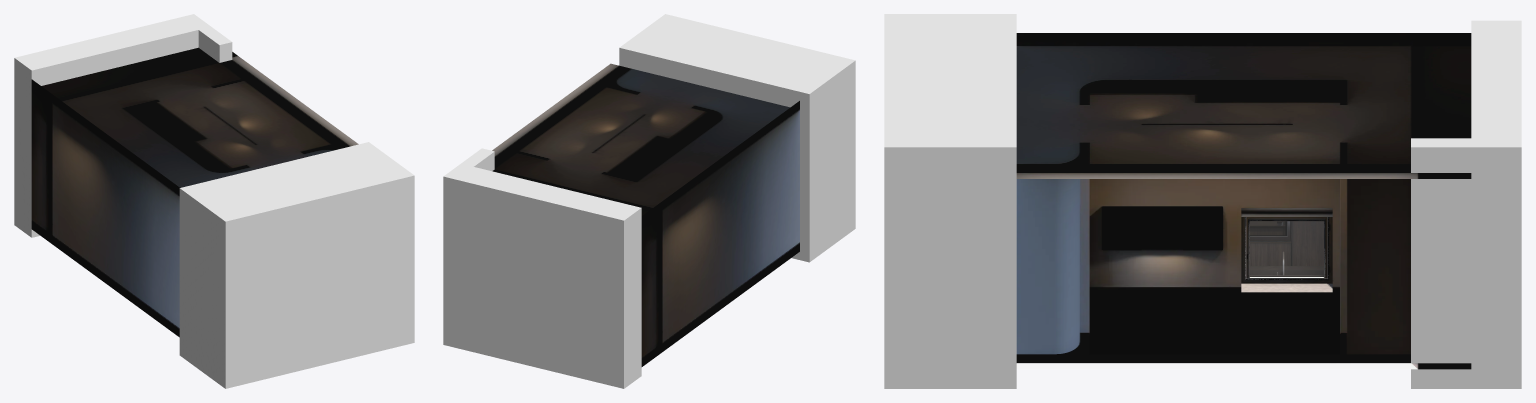
3 views of the same model, side by side, from view 1: azimuth 30°, elevation 25°; view 2: azimuth 150°, elevation 25°; view 3: azimuth 270°, elevation 25° (orthographic). The views are drawn at different scales.
Visible parts, largest first — view 1: Plane, Ceiling.001, Plane.002; view 2: Plane, Ceiling.001, Plane.002; view 3: Plane, Plane.002, Ceiling.001, Plane.007, GlassCupboard, Body, win_singleRectangleClosed, Plane.021, Obj3d66-15222411-183-733_004, Plane.022.
Part boxes in pixels (box(x1,y1,x2,y2)): Plane: box(14, 14, 414, 388); Ceiling.001: box(41, 47, 358, 187); Plane.002: box(31, 79, 179, 337); Plane: box(443, 14, 855, 388); Ceiling.001: box(492, 63, 789, 215); Plane.002: box(641, 101, 799, 366); Plane: box(884, 14, 1521, 388); Plane.002: box(1016, 33, 1471, 354); Ceiling.001: box(1016, 46, 1471, 178); Plane.007: box(1016, 332, 1471, 369); GlassCupboard: box(1102, 206, 1222, 250); Body: box(1250, 221, 1323, 276); win_singleRectangleClosed: box(1241, 217, 1332, 292); Plane.021: box(1250, 221, 1323, 265); Obj3d66-15222411-183-733_004: box(1250, 221, 1290, 240); Plane.022: box(1250, 266, 1323, 275).
Bounding box in the file's own units: 4.08 × 3.3 × 7.9.
27 materials, 24 textured.
